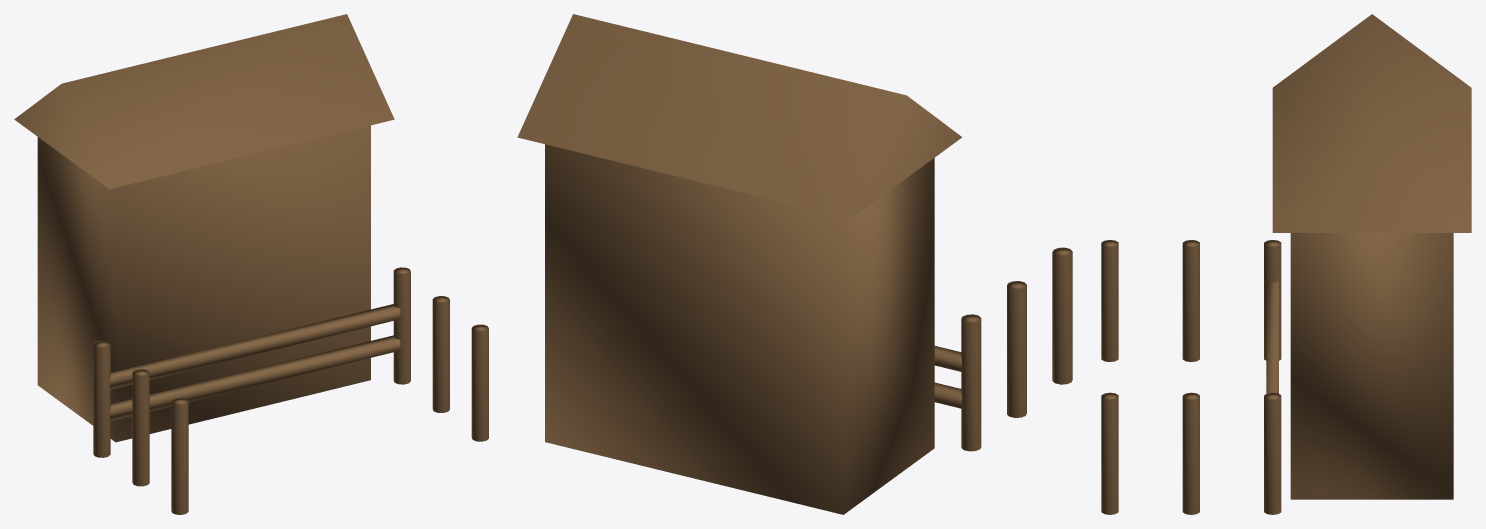
File: animal_pen.obj
3 views of the same model, side by side, from view 1: azimuth 30°, elevation 25°; view 2: azimuth 150°, elevation 25°; view 3: azimuth 270°, elevation 25° (orthographic). The views are drawn at different scales.
Bounding box in the file's own units: 4.2 × 4.25 × 4.1.
